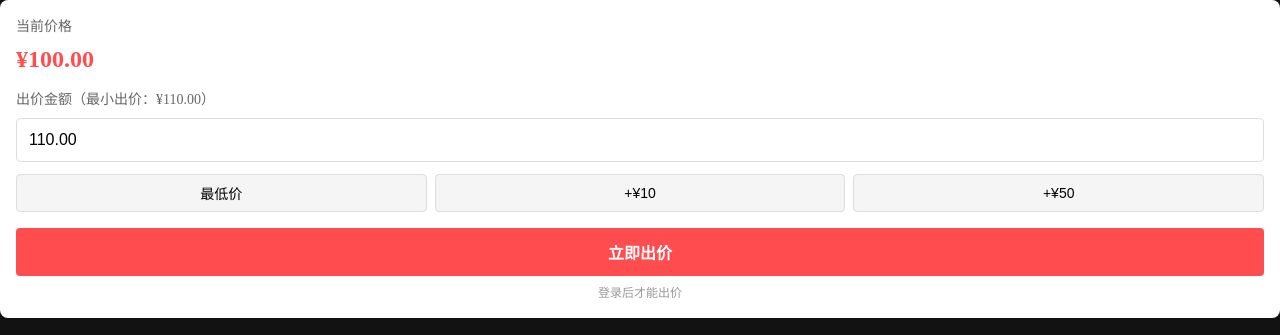
Scenario: BidInput Component › should update amount when quick bid button clicked
Click the button "+¥10" at point(640, 193), box [435, 174, 845, 212]
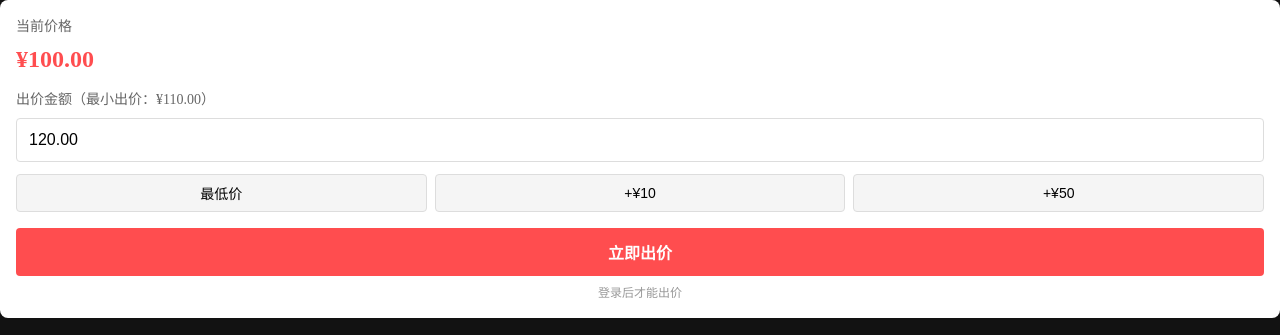
expect the number field with placeholder "最低出价 ¥110.00" holds "120.00": met, box [16, 118, 1264, 162]
